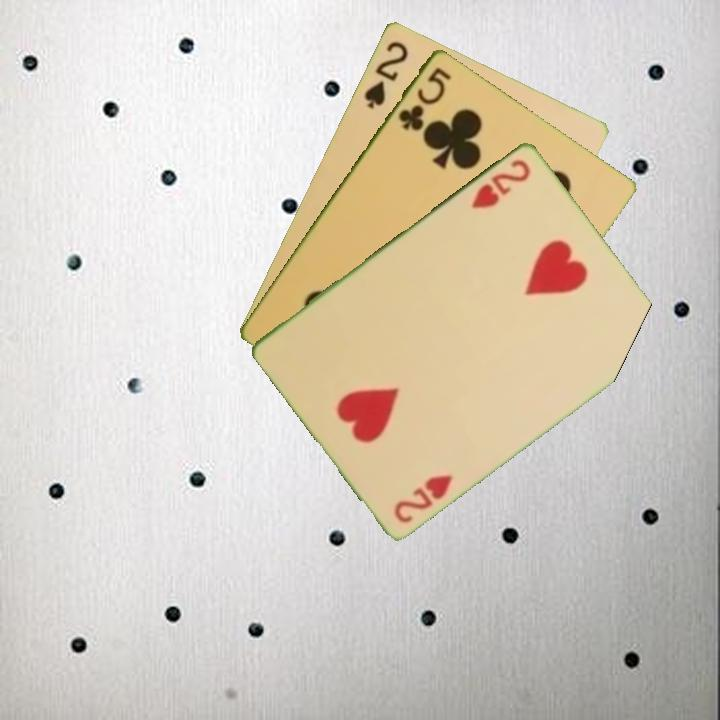2h: (468, 155, 534, 211), (390, 470, 456, 526)
2s: (360, 37, 411, 111)
5c: (394, 63, 454, 134)
